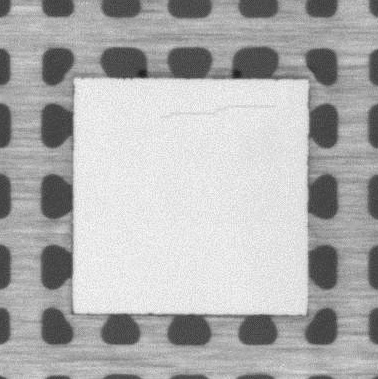DIE_CRACK: (159, 103, 277, 119)
